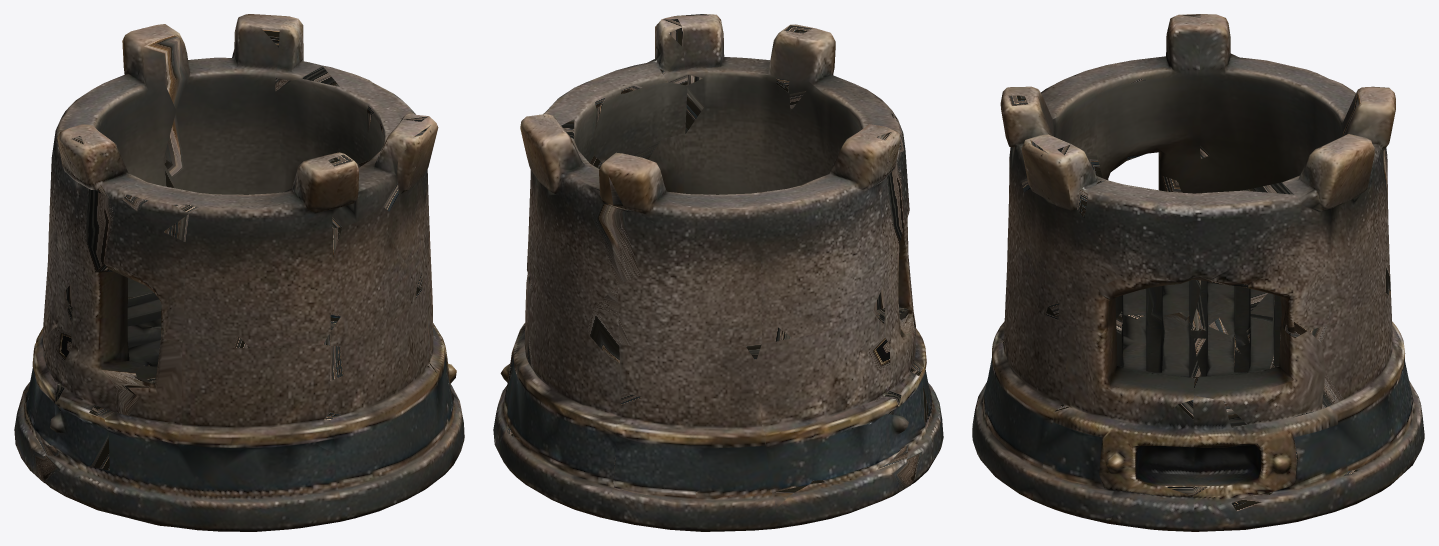
Rendered from stove-mobile.glb.
3 renders of one model, left to right at view 1: azimuth 30°, elevation 25°; view 2: azimuth 150°, elevation 25°; view 3: azimuth 270°, elevation 25°, orthographic.
Parts seen in each view (by area): view 1: tripo_node_7d442a3f-a41e-40f7-864e-047172ac675c; view 2: tripo_node_7d442a3f-a41e-40f7-864e-047172ac675c; view 3: tripo_node_7d442a3f-a41e-40f7-864e-047172ac675c.
Boxes of the visible parts, x1=… form: tripo_node_7d442a3f-a41e-40f7-864e-047172ac675c: x1=14, y1=14, x2=464, y2=531; tripo_node_7d442a3f-a41e-40f7-864e-047172ac675c: x1=493, y1=14, x2=943, y2=531; tripo_node_7d442a3f-a41e-40f7-864e-047172ac675c: x1=972, y1=14, x2=1424, y2=531.
Size of the model in its own units: 0.9999 by 0.8411 by 0.9987.
Materials: 1 (1 with a texture image).
